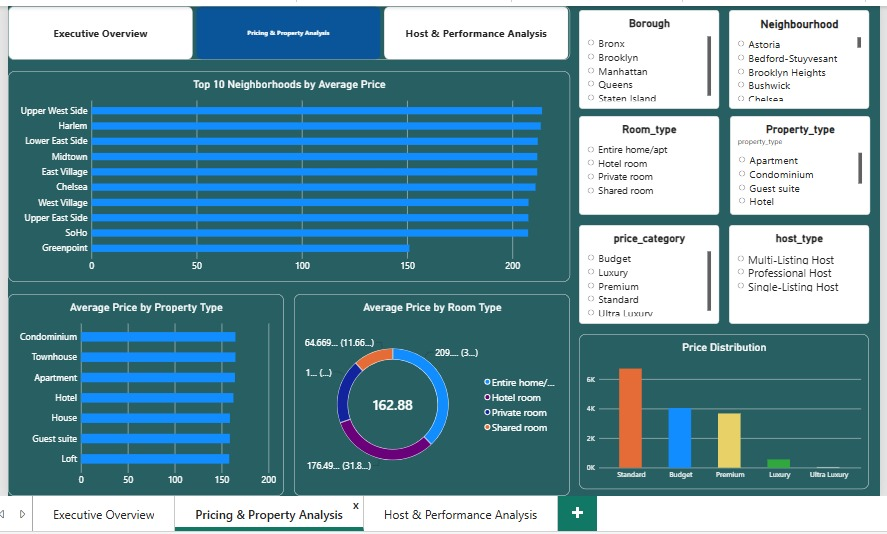

Layout of this report page (visuals, bound fields, positions):
{"tool":"powerbi","page":{"name":"Pricing & Property Analysis","canvas":[1920,1080],"ordinal":1},"visuals":[{"type":"donutChart","title":"Average Price by Room Type","fields":{"Category":["Airbnb_NYC_Cleaned_Analytics_FIXED.room_type"],"Y":["Table.Average Price"]},"box":[630.4,634.8,608.3,445.2],"z":0},{"type":"barChart","title":"Average Price by Property Type","fields":{"Category":["Airbnb_NYC_Cleaned_Analytics_FIXED.property_type"],"Y":["Table.Average Price"]},"box":[0,634.8,608.3,445.2],"z":1000},{"type":"clusteredColumnChart","title":"Price Distribution","fields":{"Category":["Airbnb_NYC_Cleaned_Analytics_FIXED.price_category"],"Y":["Table.Total Listings"]},"box":[1258.5,722.9,639.2,341.6],"z":2000},{"type":"barChart","title":"Top 10 Neighborhoods by Average Price","fields":{"Category":["Airbnb_NYC_Cleaned_Analytics_FIXED.neighbourhood"],"Y":["Table.Average Price"]},"box":[0,143.3,1238.7,465.1],"z":3000},{"type":"listSlicer","title":"Borough","fields":{"Values":["Airbnb_NYC_Cleaned_Analytics_FIXED.borough"]},"box":[1258.5,8.8,308.6,218.2],"z":4000},{"type":"listSlicer","fields":{"Values":["Airbnb_NYC_Cleaned_Analytics_FIXED.host_type"]},"box":[1589.1,482.7,308.6,218.2],"z":5000},{"type":"listSlicer","fields":{"Values":["Airbnb_NYC_Cleaned_Analytics_FIXED.price_category"]},"box":[1258.5,482.7,308.6,218.2],"z":6000},{"type":"listSlicer","title":"Room_type","fields":{"Values":["Airbnb_NYC_Cleaned_Analytics_FIXED.room_type"]},"box":[1258.5,242.4,308.6,218.2],"z":7000},{"type":"listSlicer","title":"Property_type","fields":{"Values":["Airbnb_NYC_Cleaned_Analytics_FIXED.property_type"]},"box":[1591.3,242.4,308.6,218.2],"z":8000},{"type":"listSlicer","title":"Neighbourhood","fields":{"Values":["Airbnb_NYC_Cleaned_Analytics_FIXED.neighbourhood"]},"box":[1589.1,8.8,308.6,218.2],"z":9000},{"type":"pageNavigator","box":[0,0,1238.7,119],"z":10000}]}

Visuals, with their boxes in screenshot pixels (x1, y1, x2, y2):
"Average Price by Room Type" donutChart: bbox=(292, 292, 569, 494)
"Average Price by Property Type" barChart: bbox=(5, 292, 282, 494)
"Price Distribution" clusteredColumnChart: bbox=(578, 332, 869, 487)
"Top 10 Neighborhoods by Average Price" barChart: bbox=(5, 68, 569, 279)
"Borough" listSlicer: bbox=(578, 6, 719, 106)
listSlicer - Airbnb_NYC_Cleaned_Analytics_FIXED.host_type: bbox=(729, 222, 869, 322)
listSlicer - Airbnb_NYC_Cleaned_Analytics_FIXED.price_category: bbox=(578, 222, 719, 322)
"Room_type" listSlicer: bbox=(578, 113, 719, 212)
"Property_type" listSlicer: bbox=(730, 113, 870, 212)
"Neighbourhood" listSlicer: bbox=(729, 6, 869, 106)
pageNavigator: bbox=(5, 2, 569, 57)
